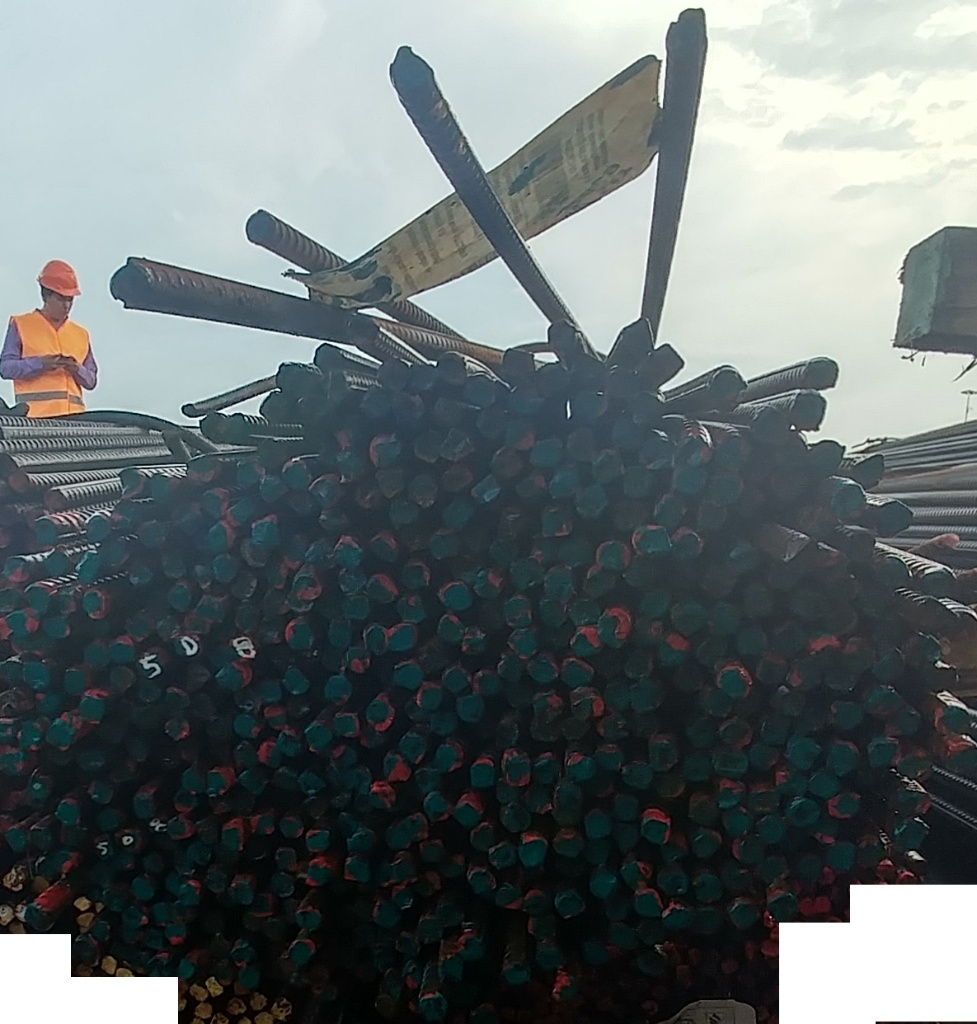dipstick: (820, 657, 862, 696), (668, 599, 707, 638), (782, 532, 818, 574), (792, 391, 827, 433), (110, 268, 150, 304), (670, 14, 709, 50), (878, 497, 914, 536), (599, 609, 633, 649), (916, 564, 957, 597), (701, 563, 738, 599), (868, 649, 906, 684), (786, 655, 824, 690), (611, 496, 645, 535), (716, 664, 753, 699), (368, 530, 402, 568), (784, 738, 822, 772), (389, 52, 428, 85), (644, 737, 680, 772), (773, 468, 811, 501), (369, 435, 403, 471), (708, 603, 741, 640), (627, 678, 664, 711), (841, 529, 875, 564), (876, 557, 910, 592), (515, 836, 550, 870), (430, 741, 464, 776), (707, 474, 740, 510), (543, 567, 576, 603), (825, 740, 858, 776), (542, 503, 574, 540), (633, 523, 670, 555), (823, 569, 860, 601), (699, 684, 733, 718), (824, 604, 859, 637), (628, 615, 664, 647), (577, 484, 608, 521), (907, 641, 944, 672), (826, 700, 863, 731), (556, 658, 595, 687), (740, 592, 774, 625), (360, 699, 394, 732), (531, 754, 566, 786), (439, 431, 475, 462), (557, 538, 593, 569), (588, 867, 624, 898), (656, 493, 686, 530), (655, 866, 688, 899), (443, 500, 475, 534), (597, 542, 631, 574), (397, 560, 431, 592), (657, 634, 689, 668), (868, 686, 900, 720), (649, 345, 684, 376), (668, 530, 703, 561), (719, 718, 754, 749), (721, 436, 751, 472), (695, 639, 731, 669), (713, 747, 749, 777), (597, 714, 633, 744), (459, 692, 488, 729), (513, 384, 545, 417), (569, 430, 601, 463), (429, 529, 462, 561), (621, 644, 653, 677), (391, 660, 424, 692), (722, 805, 755, 837), (613, 374, 644, 408), (810, 441, 844, 472), (366, 572, 400, 603), (525, 655, 559, 686), (179, 664, 213, 695), (260, 395, 295, 425), (837, 484, 867, 519), (498, 596, 533, 626), (553, 890, 588, 920), (530, 438, 566, 467), (793, 592, 829, 621), (734, 629, 771, 657), (284, 619, 316, 651), (602, 677, 634, 709), (619, 860, 651, 892), (674, 467, 707, 498), (548, 470, 581, 501), (249, 519, 282, 550), (755, 652, 788, 683), (505, 627, 539, 657), (386, 623, 420, 653), (533, 944, 567, 974), (370, 900, 404, 930), (431, 398, 466, 427), (633, 393, 662, 428), (282, 458, 311, 493), (239, 539, 274, 568), (302, 723, 337, 752), (240, 216, 277, 243), (282, 535, 309, 572), (672, 665, 709, 692), (612, 419, 644, 450), (593, 452, 624, 484), (334, 452, 365, 484), (508, 561, 539, 593), (137, 520, 168, 552), (945, 741, 977, 772), (902, 752, 934, 783), (899, 787, 931, 818), (364, 389, 397, 419), (319, 508, 352, 538), (409, 476, 439, 509), (305, 540, 335, 573), (827, 791, 860, 821), (768, 891, 801, 921), (334, 536, 363, 570), (690, 875, 724, 904), (606, 922, 640, 951), (746, 742, 781, 770), (520, 786, 556, 813), (198, 413, 229, 444), (624, 558, 655, 589), (374, 468, 406, 498), (491, 537, 523, 567), (940, 703, 970, 735), (642, 815, 672, 847), (555, 827, 587, 857), (134, 652, 167, 681), (679, 752, 712, 781), (103, 664, 136, 693), (766, 565, 801, 592), (535, 601, 570, 628), (467, 378, 498, 408), (756, 410, 787, 440), (626, 466, 656, 497), (855, 455, 885, 486), (899, 820, 930, 850), (761, 854, 792, 884), (687, 719, 718, 749), (76, 743, 106, 774), (807, 360, 839, 389), (397, 395, 426, 427), (694, 503, 726, 532), (197, 487, 226, 519), (772, 624, 804, 653), (441, 668, 473, 697), (499, 803, 531, 832), (621, 322, 654, 350), (386, 501, 419, 529), (730, 541, 758, 574), (568, 627, 601, 655), (395, 596, 428, 624), (711, 371, 745, 398), (535, 534, 561, 569), (338, 595, 373, 621), (526, 917, 561, 943), (260, 588, 290, 618), (132, 707, 162, 737), (492, 450, 523, 479), (185, 456, 214, 487), (227, 634, 258, 663), (83, 516, 112, 547), (282, 665, 311, 696), (917, 597, 946, 628), (560, 709, 591, 738), (585, 570, 617, 598), (80, 589, 108, 621), (891, 711, 923, 739), (610, 794, 643, 821), (301, 793, 328, 826), (227, 500, 261, 526), (335, 568, 369, 594), (528, 717, 562, 743), (346, 832, 380, 858), (220, 818, 246, 852), (309, 480, 339, 509), (516, 470, 546, 499), (206, 524, 235, 554), (445, 584, 474, 614), (104, 533, 133, 563), (827, 841, 856, 871), (728, 900, 758, 929), (547, 972, 576, 1002), (418, 839, 448, 868), (438, 354, 466, 385), (642, 590, 673, 618), (570, 598, 601, 626), (326, 618, 354, 649), (661, 838, 692, 866), (692, 907, 723, 935), (421, 794, 452, 822), (304, 858, 332, 889), (380, 361, 407, 393), (761, 716, 793, 743), (714, 777, 746, 804), (414, 432, 440, 465), (808, 774, 841, 800), (159, 688, 192, 714), (276, 767, 302, 800), (290, 576, 324, 601), (748, 789, 782, 814), (110, 829, 144, 854), (471, 475, 500, 504), (420, 990, 449, 1019), (572, 395, 600, 425), (683, 439, 713, 467), (441, 464, 471, 492), (258, 476, 286, 506), (196, 598, 226, 626), (74, 554, 102, 584), (421, 640, 451, 668), (592, 652, 622, 680), (798, 707, 826, 737), (855, 839, 885, 867), (398, 735, 428, 763), (288, 938, 316, 968), (172, 634, 203, 661), (322, 675, 353, 702), (777, 689, 808, 716), (636, 951, 667, 978), (584, 810, 615, 837), (414, 681, 441, 712), (127, 875, 158, 902), (503, 351, 535, 377), (362, 622, 388, 654), (618, 761, 650, 787), (455, 802, 481, 834), (319, 649, 352, 674), (776, 772, 809, 797), (506, 685, 539, 710), (788, 800, 822, 824), (475, 410, 503, 439), (214, 664, 243, 692), (870, 740, 899, 768), (632, 892, 661, 920), (572, 691, 601, 719), (234, 605, 261, 635), (438, 616, 468, 643), (127, 559, 157, 586), (328, 713, 358, 740), (129, 737, 159, 764), (470, 669, 501, 695), (687, 798, 718, 824), (109, 506, 141, 531), (232, 714, 264, 739), (603, 896, 636, 920), (505, 422, 533, 450), (258, 443, 286, 471), (237, 460, 265, 488), (633, 714, 661, 742), (568, 755, 596, 783), (80, 695, 108, 723), (230, 572, 257, 601), (584, 843, 613, 870), (273, 728, 302, 755), (231, 742, 258, 771), (86, 779, 115, 806), (472, 572, 502, 598), (578, 940, 608, 966), (691, 832, 722, 857), (593, 746, 624, 771), (373, 991, 406, 1014), (276, 367, 304, 394), (127, 614, 155, 641), (795, 851, 823, 878), (651, 774, 687, 795), (488, 841, 515, 869), (465, 870, 493, 897), (228, 882, 256, 909), (205, 715, 233, 742), (82, 642, 108, 671), (736, 841, 765, 867), (495, 720, 524, 746), (441, 958, 467, 987), (384, 826, 413, 852), (256, 743, 285, 769), (391, 932, 421, 957), (279, 813, 304, 843), (239, 770, 269, 795), (160, 719, 194, 741), (501, 760, 532, 784), (264, 562, 291, 589), (392, 883, 419, 910), (383, 757, 410, 784), (343, 766, 370, 793), (643, 444, 671, 470), (728, 872, 756, 898), (438, 898, 466, 924), (418, 915, 446, 941), (328, 790, 356, 816), (294, 909, 322, 935), (267, 873, 295, 899), (90, 834, 116, 862), (132, 683, 165, 705), (575, 358, 604, 383), (519, 891, 548, 916), (141, 817, 170, 842), (540, 371, 571, 394), (531, 695, 562, 718), (550, 804, 581, 827), (550, 320, 576, 347), (160, 553, 187, 579), (164, 585, 191, 611), (499, 659, 525, 686), (414, 767, 441, 793), (402, 813, 429, 839), (299, 771, 325, 798), (276, 847, 302, 874), (470, 762, 495, 790), (302, 828, 330, 853), (151, 899, 176, 927), (555, 783, 584, 807), (178, 881, 202, 910), (155, 613, 181, 639), (108, 640, 134, 666), (355, 483, 380, 510), (209, 555, 236, 580), (757, 817, 785, 841), (662, 908, 690, 932), (100, 716, 128, 740), (357, 728, 387, 750), (181, 612, 212, 633), (501, 963, 532, 984), (429, 713, 460, 734), (171, 793, 202, 814), (94, 809, 125, 830), (344, 860, 370, 885), (496, 779, 523, 803), (471, 827, 498, 851), (380, 966, 404, 993), (180, 767, 207, 791), (206, 770, 230, 797), (166, 815, 194, 838), (317, 347, 346, 369), (348, 321, 377, 343), (329, 747, 358, 769), (616, 824, 641, 849), (492, 885, 517, 910), (204, 868, 229, 893), (324, 377, 348, 403), (255, 681, 282, 704), (247, 814, 274, 837), (150, 476, 172, 504), (256, 627, 284, 649), (178, 515, 203, 539), (463, 631, 488, 655), (264, 917, 288, 942), (120, 909, 150, 929), (130, 795, 156, 818), (369, 785, 396, 807), (142, 857, 170, 878), (638, 923, 667, 943), (405, 706, 429, 730), (216, 960, 240, 984), (236, 692, 262, 714), (193, 563, 214, 590), (402, 961, 423, 988), (264, 707, 292, 727), (441, 862, 465, 885), (412, 367, 437, 389), (348, 652, 373, 674), (458, 940, 484, 961), (334, 813, 360, 834), (285, 595, 317, 612), (237, 967, 260, 989), (166, 923, 190, 944), (93, 922, 114, 946), (144, 929, 166, 950), (163, 875, 186, 894), (232, 946, 252, 967), (81, 947, 101, 968), (148, 953, 170, 970), (76, 935, 93, 952), (177, 961, 196, 976)
